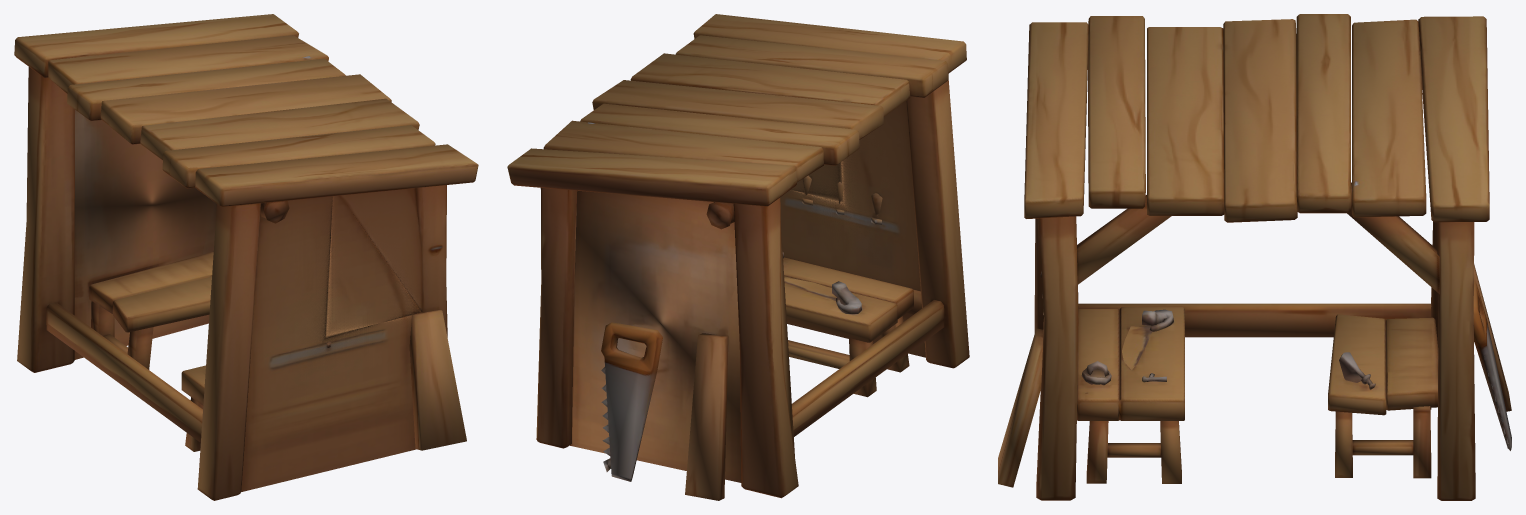
Rendered from map_shed_tripo.glb.
3 views of the same model, side by side, from view 1: azimuth 30°, elevation 25°; view 2: azimuth 150°, elevation 25°; view 3: azimuth 270°, elevation 25° (orthographic). The views are drawn at different scales.
Visible parts, largest first — view 1: tripo_node_8909ff19-170c-48db-be30-aa5f89a7ea1b; view 2: tripo_node_8909ff19-170c-48db-be30-aa5f89a7ea1b; view 3: tripo_node_8909ff19-170c-48db-be30-aa5f89a7ea1b.
Part boxes in pixels (x1,y1,x2,y2): tripo_node_8909ff19-170c-48db-be30-aa5f89a7ea1b: [14, 14, 478, 500]; tripo_node_8909ff19-170c-48db-be30-aa5f89a7ea1b: [507, 14, 969, 500]; tripo_node_8909ff19-170c-48db-be30-aa5f89a7ea1b: [998, 14, 1511, 500].
Size of the model in its own units: 0.6816 by 0.7676 by 0.998.
Materials: 1 (1 with a texture image).
